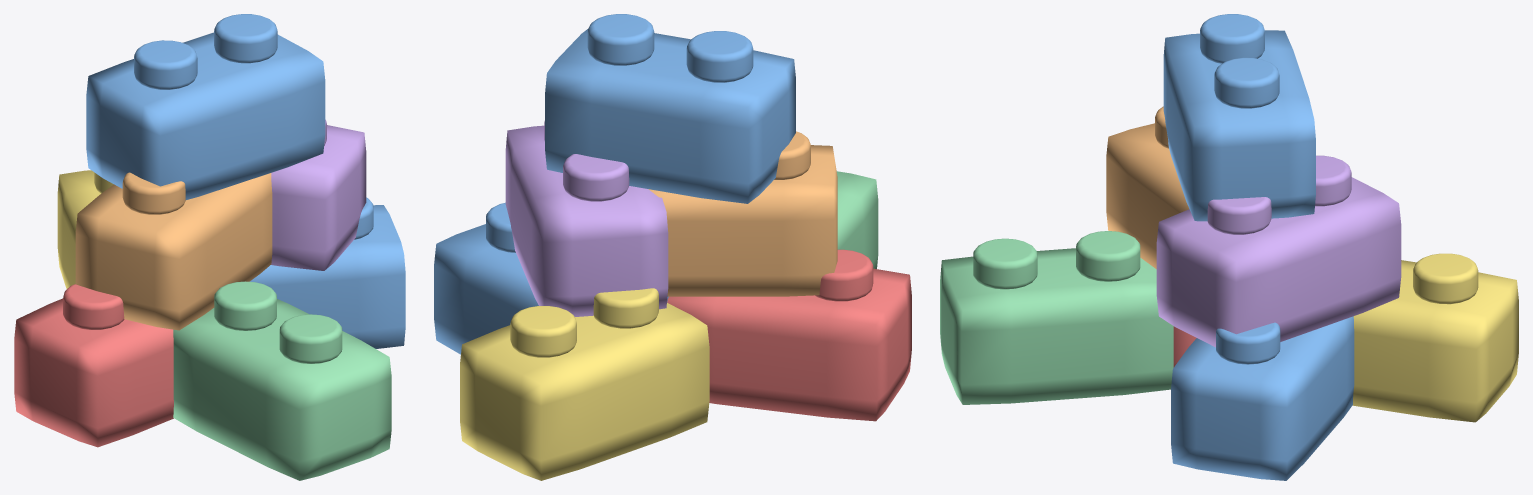
The model's file is BigBadVacuumPile.glb.
3 views of the same model, side by side, from view 1: azimuth 30°, elevation 25°; view 2: azimuth 150°, elevation 25°; view 3: azimuth 270°, elevation 25° (orthographic). The views are drawn at different scales.
Visible parts, largest first — view 1: Blue, Green, Orange, Red, Purple, Yellow; view 2: Blue, Yellow, Red, Purple, Orange, Green; view 3: Blue, Green, Purple, Yellow, Orange.
Part boxes in pixels (x1=…): Blue: x1=86, y1=14, x2=405, y2=348; Green: x1=173, y1=281, x2=391, y2=480; Orange: x1=75, y1=172, x2=272, y2=330; Red: x1=14, y1=284, x2=173, y2=447; Purple: x1=271, y1=119, x2=366, y2=270; Yellow: x1=57, y1=170, x2=113, y2=288; Blue: x1=434, y1=14, x2=795, y2=354; Yellow: x1=460, y1=288, x2=709, y2=480; Red: x1=667, y1=249, x2=911, y2=421; Purple: x1=505, y1=121, x2=668, y2=316; Orange: x1=648, y1=131, x2=837, y2=296; Green: x1=836, y1=171, x2=878, y2=268; Blue: x1=1163, y1=14, x2=1354, y2=480; Green: x1=940, y1=231, x2=1173, y2=404; Purple: x1=1156, y1=155, x2=1401, y2=347; Yellow: x1=1352, y1=253, x2=1518, y2=422; Orange: x1=1106, y1=106, x2=1189, y2=268.
Bounding box in the file's own units: 7.2 × 5.7 × 8.86.
